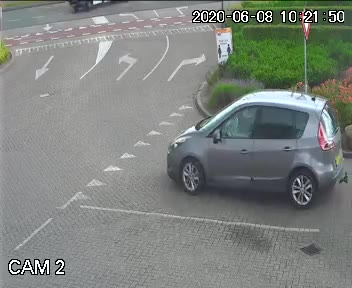car: (139, 64, 348, 229)
